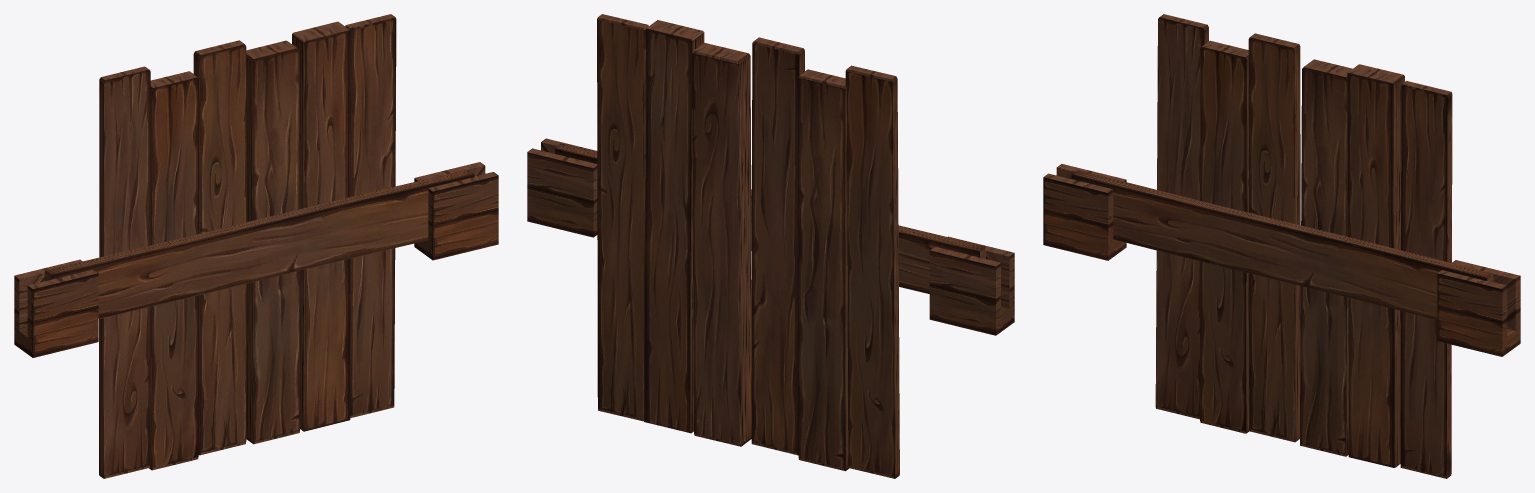
Rendered from GoblinFortress_Gate.fbx.
The picture shows the model from 3 angles, left to right: view 1: azimuth 30°, elevation 25°; view 2: azimuth 150°, elevation 25°; view 3: azimuth 330°, elevation 25°; orthographic projection. The views are drawn at different scales.
Parts seen in each view (by area): view 1: Cube.010, Cube.005, Cube.002, Cube.001, Cube; view 2: Cube.010, Cube.005, Cube.001, Cube, Cube.002; view 3: Cube.010, Cube.005, Cube.002, Cube, Cube.001.
Boxes of the visible parts, box(x1,y1,x2,y2) form: Cube.010: box(246, 14, 396, 444); Cube.005: box(99, 40, 246, 478); Cube.002: box(44, 169, 474, 318); Cube.001: box(14, 259, 98, 357); Cube: box(414, 162, 498, 260); Cube.010: box(597, 14, 751, 446); Cube.005: box(751, 37, 899, 478); Cube.001: box(929, 236, 1014, 335); Cube: box(527, 138, 597, 237); Cube.002: box(555, 143, 985, 293); Cube.010: box(1300, 59, 1452, 478); Cube.005: box(1155, 14, 1300, 442); Cube.002: box(1071, 170, 1493, 319); Cube: box(1437, 260, 1520, 356); Cube.001: box(1043, 164, 1126, 260).
Size of the model in its own units: 370 by 306 by 45.6.
